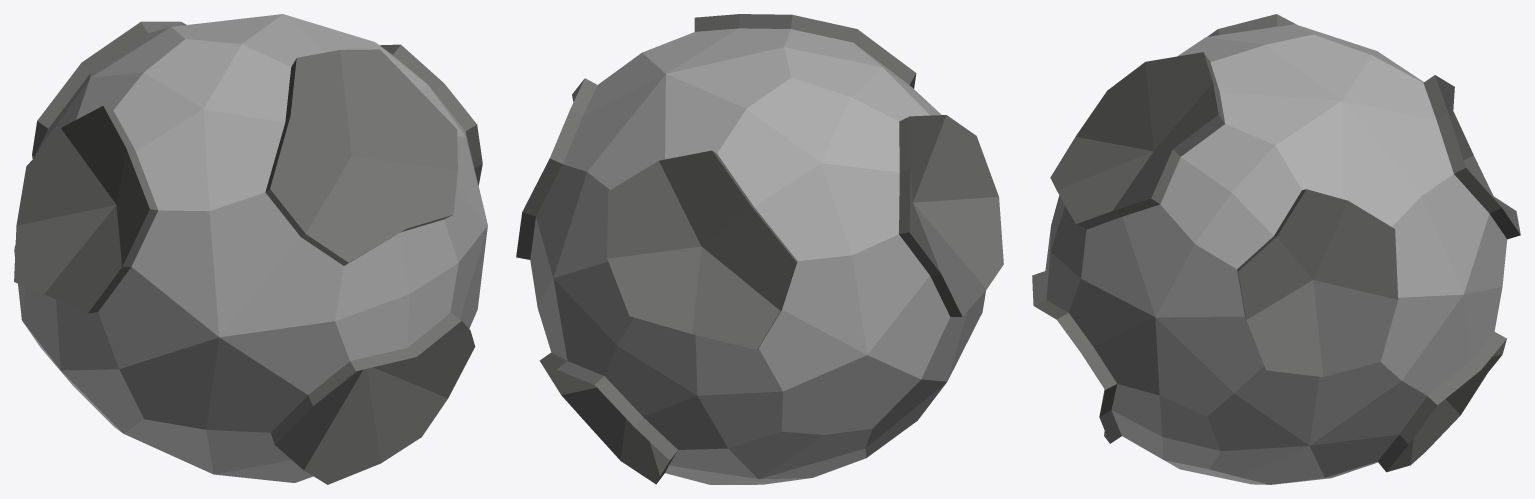
Rendered from rockyMoon.fbx.
3 renders of one model, left to right at view 1: azimuth 30°, elevation 25°; view 2: azimuth 150°, elevation 25°; view 3: azimuth 270°, elevation 25°, orthographic. The views are drawn at different scales.
Parts seen in each view (by area): view 1: RockyMoon; view 2: RockyMoon; view 3: RockyMoon.
Part boxes in pixels (box(x1,y1,x2,y2)): RockyMoon: box(14, 14, 487, 484); RockyMoon: box(516, 14, 1003, 484); RockyMoon: box(1032, 14, 1520, 484).
Bounding box in the file's own units: 312 × 292 × 309.
Materials: 1 (1 with a texture image).
